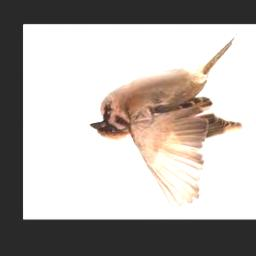Sparrow: (90, 33, 242, 210)
